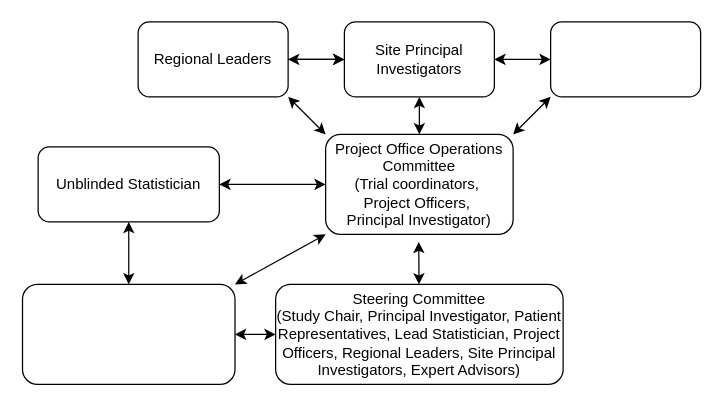
Some shapes in this 723 by 406 pixel diagram are drawn without their labels. The centre of each missing label's shape, as x and y in pixels:
"Data Monitoring Committee" goes at (x=128, y=333).
"Trial Hospitals (Research personnel)" goes at (x=625, y=59).
